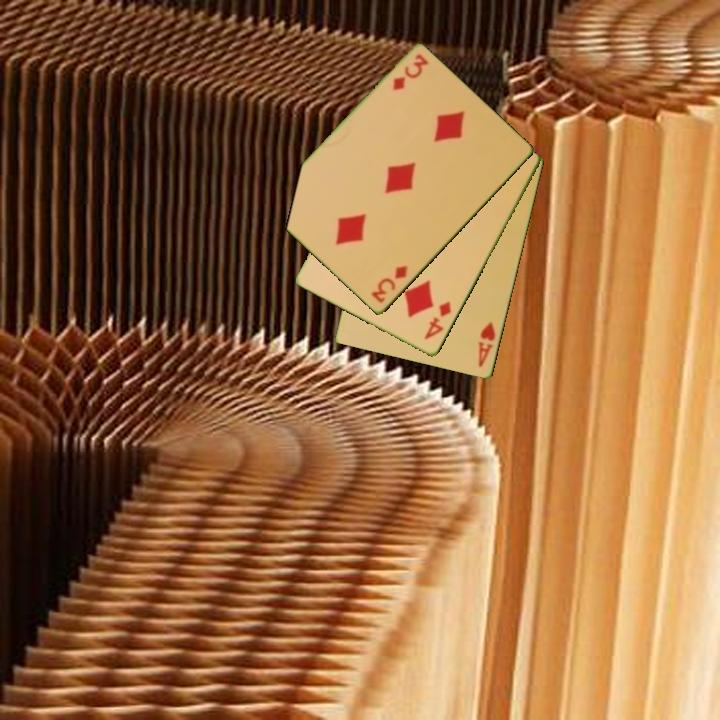3d: (367, 262, 411, 306), (389, 51, 431, 94)
4d: (421, 298, 454, 343)
Ah: (475, 319, 499, 371)
